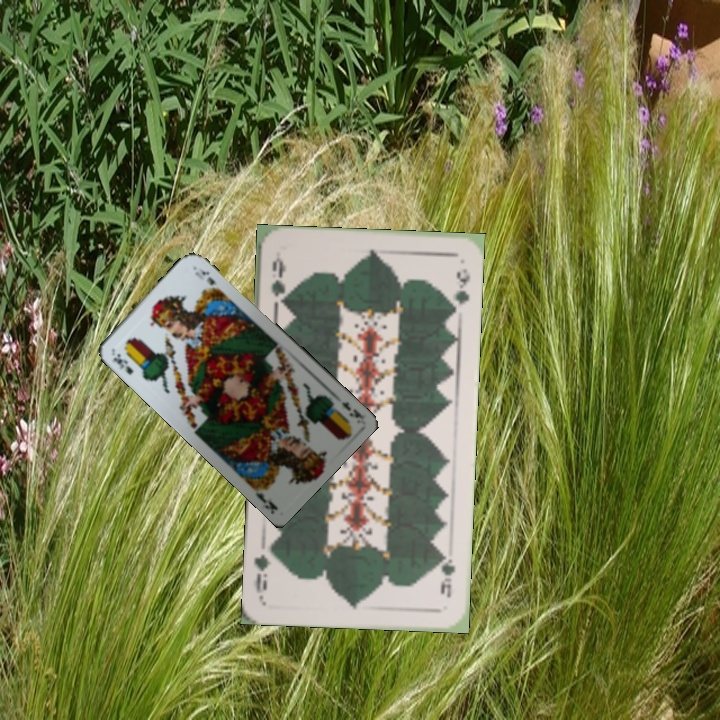EK: (108, 350, 136, 377), (337, 397, 365, 421)
G9: (267, 250, 289, 309), (436, 547, 458, 600)
